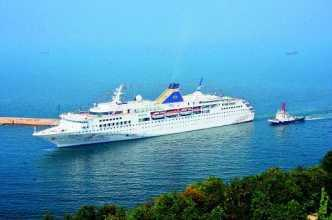otherboat: (268, 102, 308, 128)
youlun: (33, 77, 257, 150)
